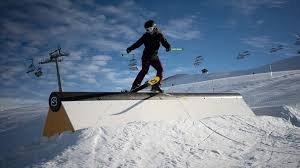skis: (125, 77, 164, 93)
